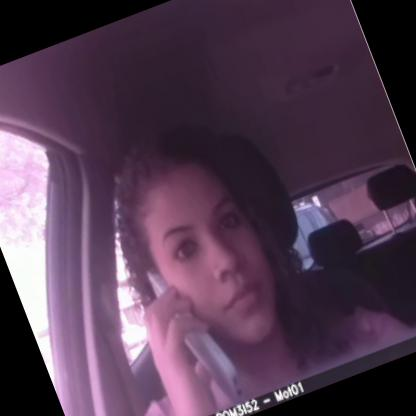phone: (132, 250, 252, 415)
